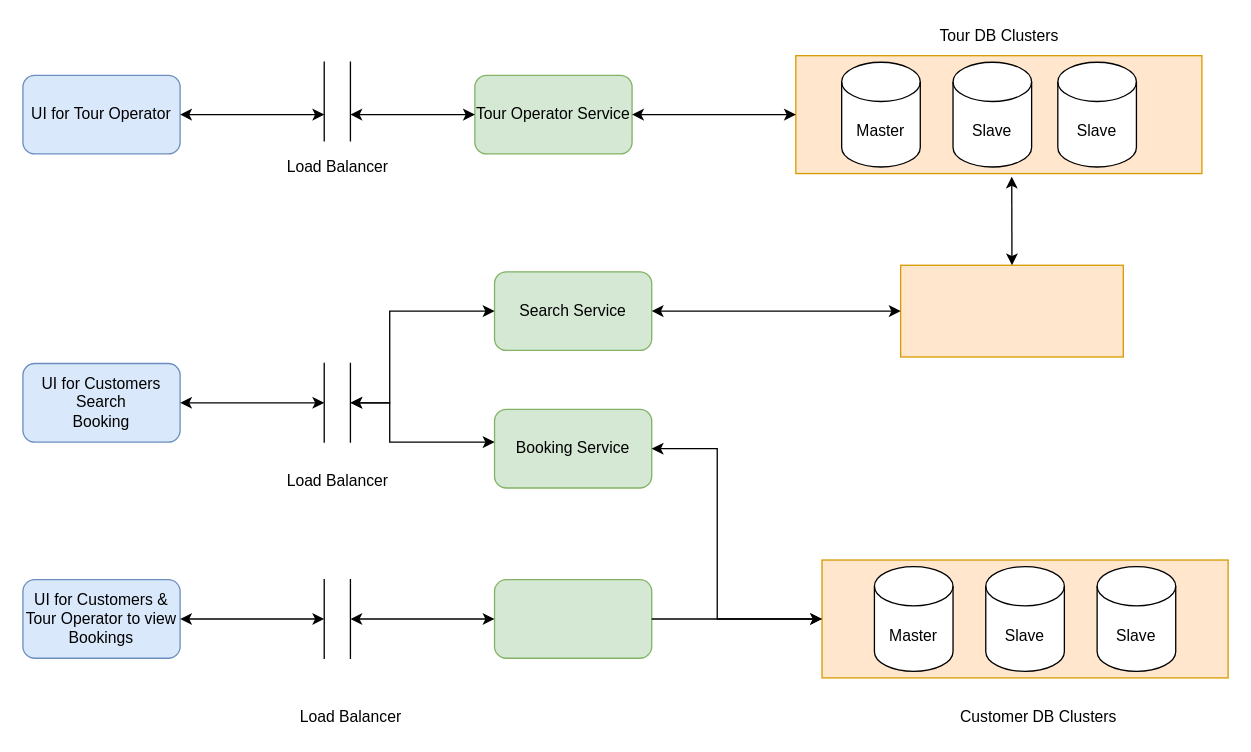
Some shapes in this 1251 by 752 pixel diagram are drawn without their labels. The shapes that lost their labels are listed below. From the top down, each one's centre as x and y in pixels, then its label:
[1011,310]: Elastic Search Clusters
[572,618]: Booking Management Service
